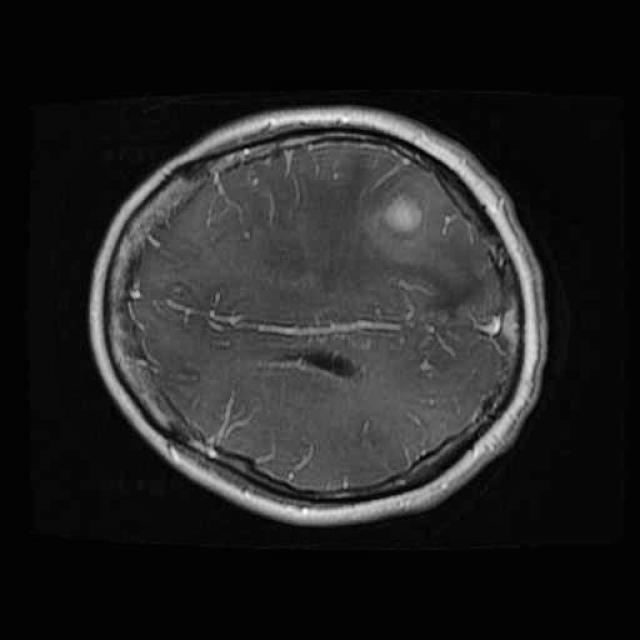Tumor: (376, 178, 428, 243)
